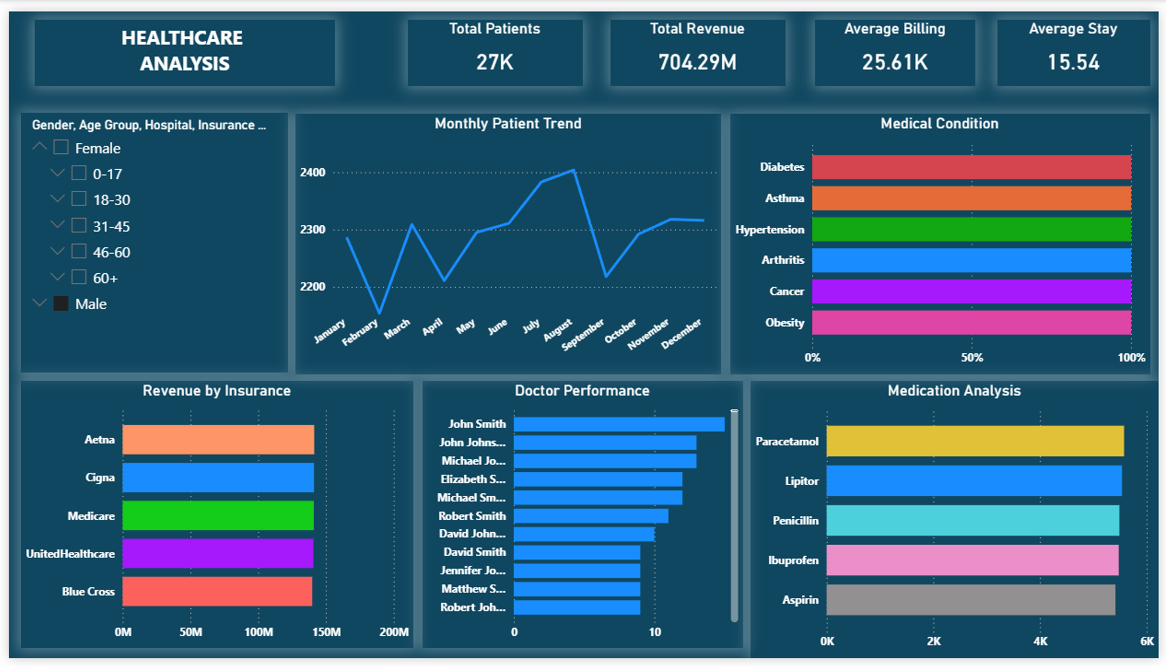

The page's visual inventory and layout, read from the dashboard file:
{"tool":"powerbi","page":{"name":"Page 1","canvas":[1280,720],"ordinal":0},"visuals":[{"type":"barChart","title":"Revenue by Insurance","fields":{"Category":["healthcare_dataset.Insurance Provider"],"Y":["healthcare_dataset.Total Revenue"]},"box":[12.3,411.7,437.7,297.8],"z":0},{"type":"hundredPercentStackedBarChart","title":"Medical Condition","fields":{"Y":["healthcare_dataset.Total Patients"],"Category":["healthcare_dataset.Medical Condition"]},"box":[802.7,113.9,467.9,289.5],"z":1000},{"type":"lineChart","title":"Monthly Patient Trend","fields":{"Y":["healthcare_dataset.Total Patients"],"Category":["healthcare_dataset.Date of Admission.Variation.Date Hierarchy.Month"]},"box":[319.7,113.9,473.4,289.5],"z":2000},{"type":"card","title":"Total Patients","fields":{"Values":["healthcare_dataset.Total Patients"]},"box":[443.2,9.6,194.9,74.1],"z":3000},{"type":"card","title":"Total Revenue","fields":{"Values":["healthcare_dataset.Total Revenue"]},"box":[669.6,9.6,194.9,74.1],"z":4000},{"type":"card","title":"Average Billing","fields":{"Values":["healthcare_dataset.Average Billing"]},"box":[897.4,9.6,178.4,74.1],"z":5000},{"type":"card","title":"Average Stay","fields":{"Values":["healthcare_dataset.Average Length of Stay"]},"box":[1100.5,9.6,170.2,74.1],"z":6000},{"type":"barChart","title":"Medication Analysis","fields":{"Category":["healthcare_dataset.Medication"],"Y":["healthcare_dataset.Total Patients"]},"box":[826.1,411.7,454.2,308.7],"z":7000},{"type":"slicer","fields":{"Values":["healthcare_dataset.Gender","healthcare_dataset.Age Group","healthcare_dataset.Hospital","healthcare_dataset.Insurance Provider","healthcare_dataset.Date of Admission"]},"box":[12.3,112.5,297.8,289.5],"z":8000},{"type":"barChart","title":"Doctor Performance","fields":{"Category":["healthcare_dataset.Doctor"],"Y":["healthcare_dataset.Total_Patients"]},"box":[459.7,411.7,356.8,297.8],"z":9000},{"type":"textbox","box":[28.8,9.6,334.8,74.1],"z":9001}]}

Visuals, with their boxes in screenshot pixels (x1, y1, x2, y2), scaled from the page's 1280x720 canvas onto the 1166x666 screenshot:
"Revenue by Insurance" barChart: x1=11, y1=381, x2=410, y2=656
"Medical Condition" hundredPercentStackedBarChart: x1=731, y1=105, x2=1157, y2=373
"Monthly Patient Trend" lineChart: x1=291, y1=105, x2=722, y2=373
"Total Patients" card: x1=404, y1=9, x2=581, y2=77
"Total Revenue" card: x1=610, y1=9, x2=788, y2=77
"Average Billing" card: x1=817, y1=9, x2=980, y2=77
"Average Stay" card: x1=1002, y1=9, x2=1158, y2=77
"Medication Analysis" barChart: x1=753, y1=381, x2=1165, y2=665
slicer - healthcare_dataset.Gender x healthcare_dataset.Age Group: x1=11, y1=104, x2=282, y2=372
"Doctor Performance" barChart: x1=419, y1=381, x2=744, y2=656
textbox: x1=26, y1=9, x2=331, y2=77
